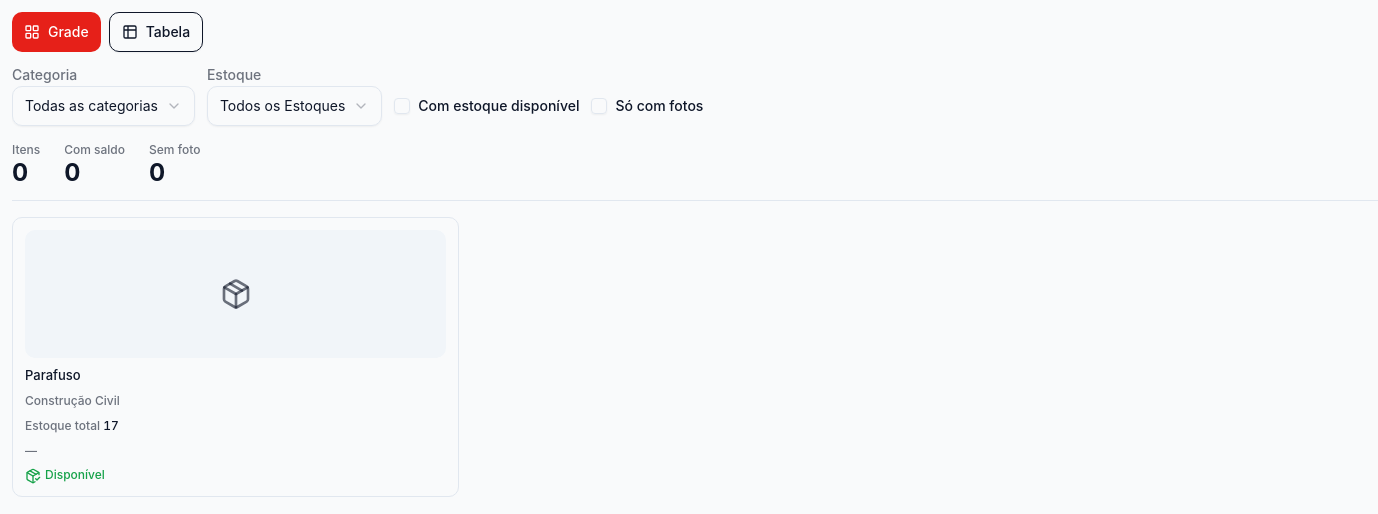
CatalogoListagem — tabela agrupada (viewport ≥ 768px) › expandir uma linha agrupada revela a quantidade por Estoque
Check: the text "Parafuso" is shown, box x1=25 y1=367 x2=81 y2=383
Click the button "Tabela" at point(156, 32), box x1=109 y1=12 x2=203 y2=52
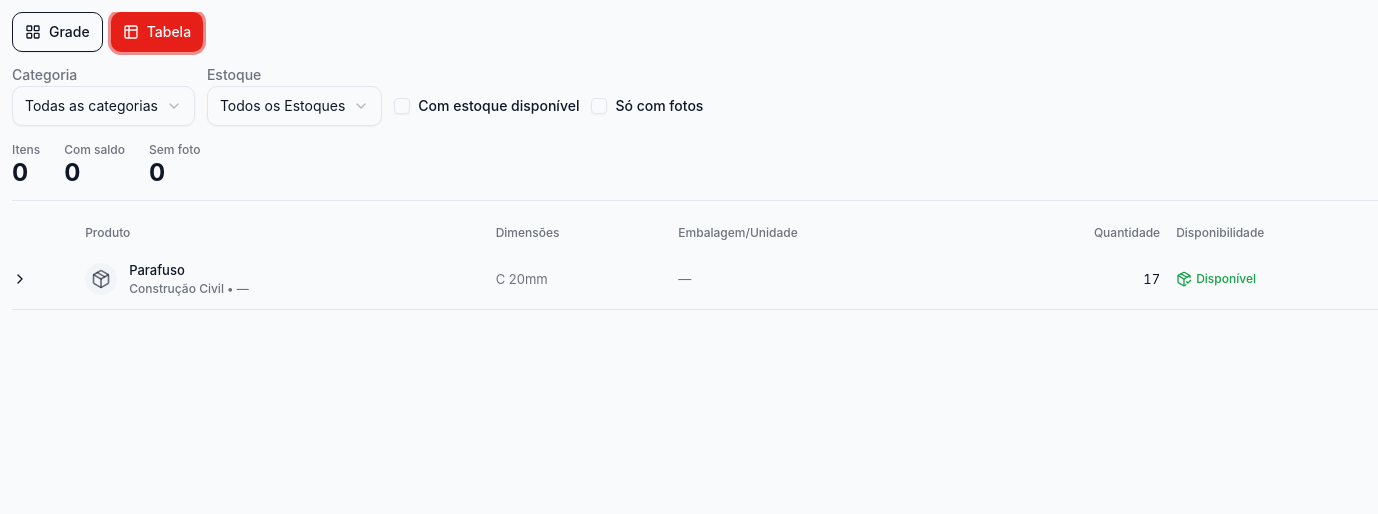
Click the button named "Parafuso" at point(20, 279), box x1=12 y1=259 x2=28 y2=299
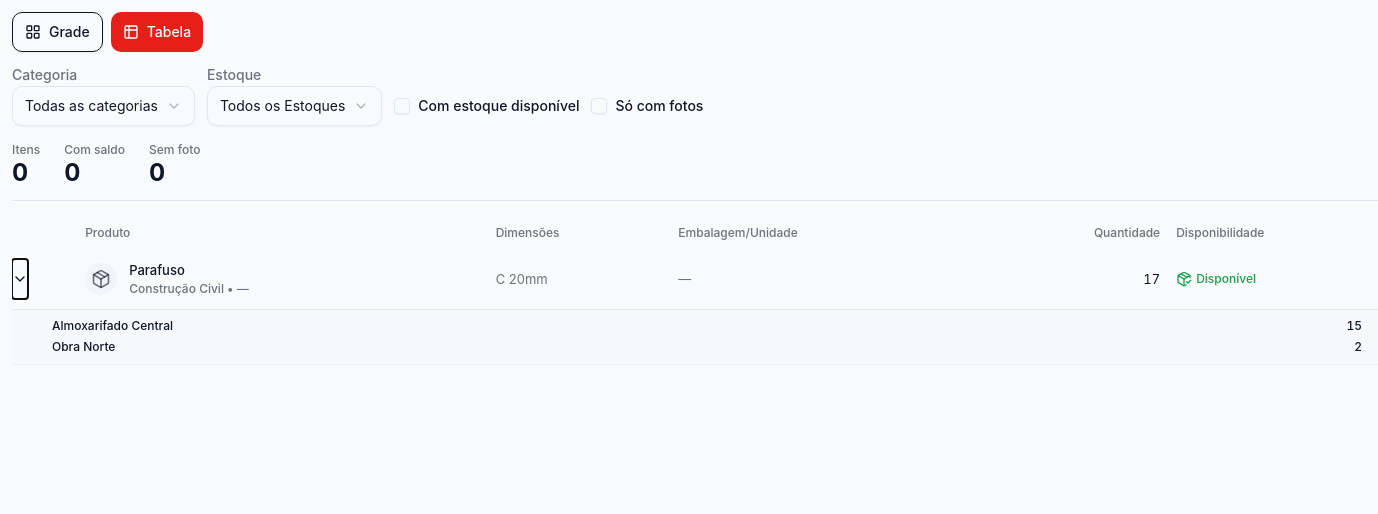
Check: the button named "Parafuso" is expanded, box x1=12 y1=259 x2=28 y2=299
Check: the text "Almoxarifado Central" is shown, box x1=52 y1=318 x2=173 y2=335
Check: the text "Obra Norte" is shown, box x1=52 y1=339 x2=115 y2=356
